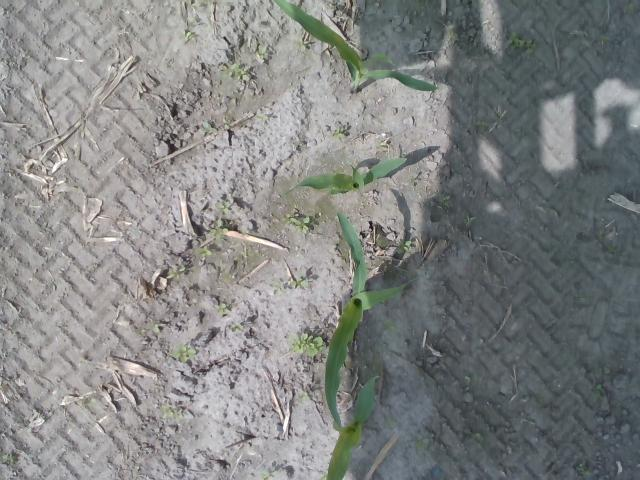Maize: (326, 209, 402, 434), (273, 0, 440, 93), (325, 374, 379, 480), (279, 155, 406, 195)
Weeds: (290, 334, 324, 358), (506, 30, 538, 55), (172, 344, 196, 364), (287, 212, 311, 232), (207, 220, 228, 242), (225, 63, 247, 80), (162, 406, 184, 420), (288, 278, 306, 290), (464, 374, 480, 386), (417, 438, 432, 450), (440, 194, 452, 208), (474, 432, 483, 450), (219, 203, 232, 215), (165, 270, 178, 282), (333, 126, 344, 140), (386, 320, 397, 334), (200, 121, 212, 133), (215, 304, 228, 314), (199, 248, 213, 257), (402, 240, 412, 252), (232, 322, 242, 332), (152, 324, 162, 334), (182, 30, 192, 40), (299, 390, 309, 398)
